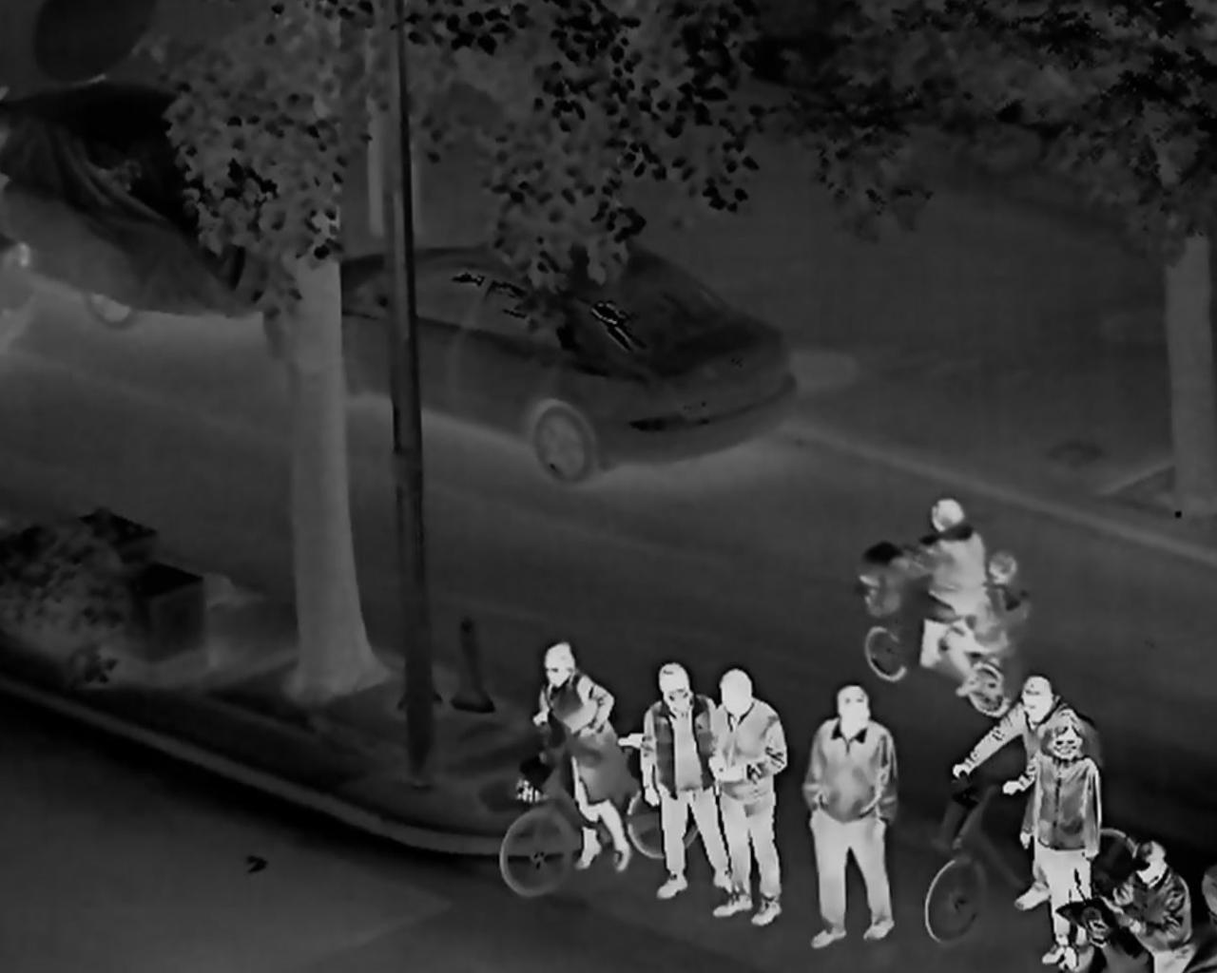person: (948, 676, 1078, 916), (800, 684, 899, 950), (528, 641, 631, 874), (641, 659, 735, 896), (710, 670, 790, 925), (889, 495, 986, 676), (1033, 717, 1099, 971), (1111, 839, 1194, 973), (954, 550, 1024, 694)
